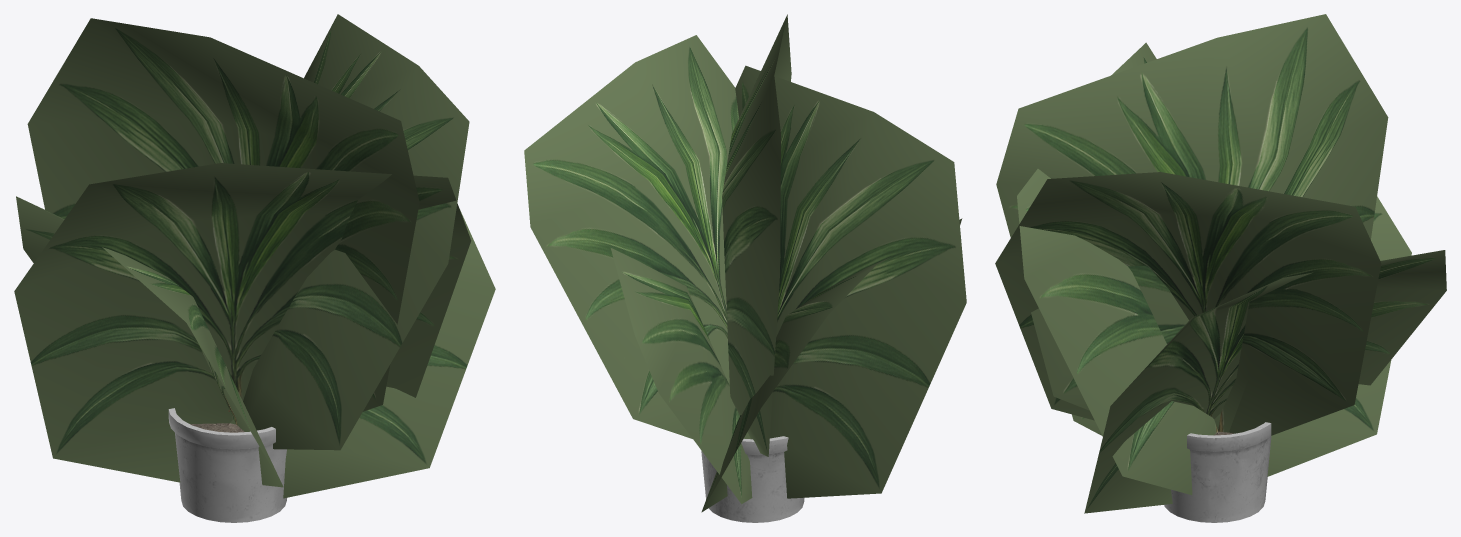
File: HH_Potted_Plant_03.fbx
The picture shows the model from 3 angles, left to right: view 1: azimuth 30°, elevation 25°; view 2: azimuth 150°, elevation 25°; view 3: azimuth 270°, elevation 25°; orthographic projection. The views are drawn at different scales.
Parts seen in each view (by area): view 1: HH_Potted_Plant_03_LOD0; view 2: HH_Potted_Plant_03_LOD0; view 3: HH_Potted_Plant_03_LOD0.
Part boxes in pixels (box(x1,y1,x2,y2)): HH_Potted_Plant_03_LOD0: box(14, 14, 495, 522); HH_Potted_Plant_03_LOD0: box(524, 14, 966, 522); HH_Potted_Plant_03_LOD0: box(995, 14, 1446, 522).
Size of what is drawn, in the model's own units: 152 by 157 by 142.
